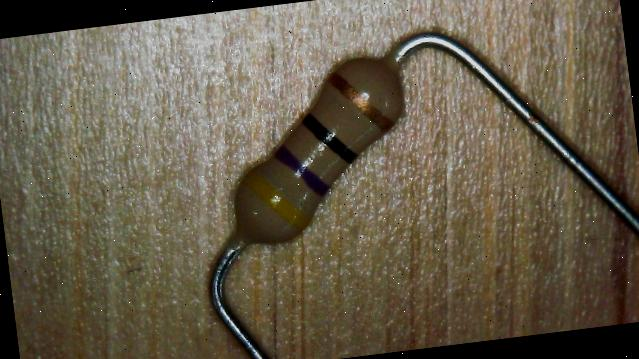black: (300, 107, 358, 168)
gold: (327, 64, 392, 136)
resistor: (187, 27, 447, 269)
violet: (274, 138, 330, 200)
yellow: (244, 164, 308, 232)
